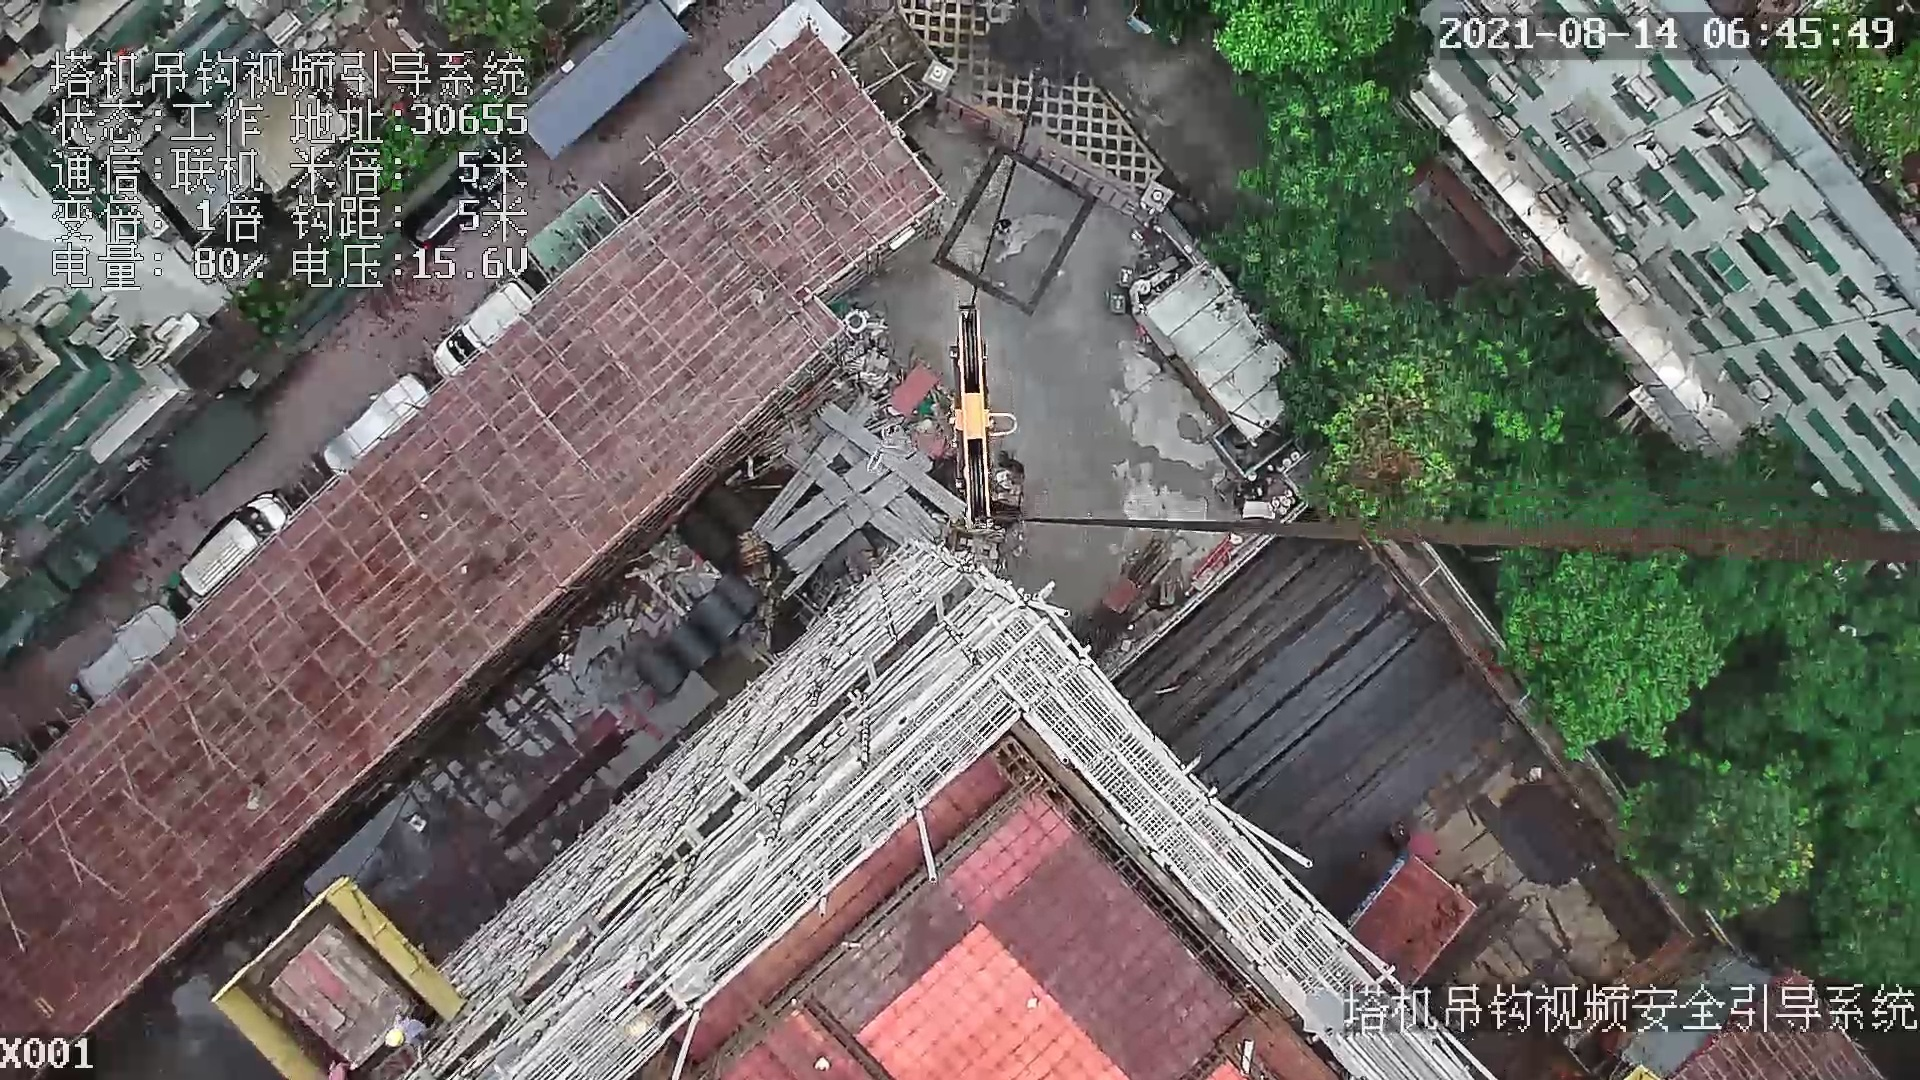helmet: (382, 1032, 410, 1054)
hook: (932, 303, 1022, 524)
person: (374, 1006, 424, 1046)
